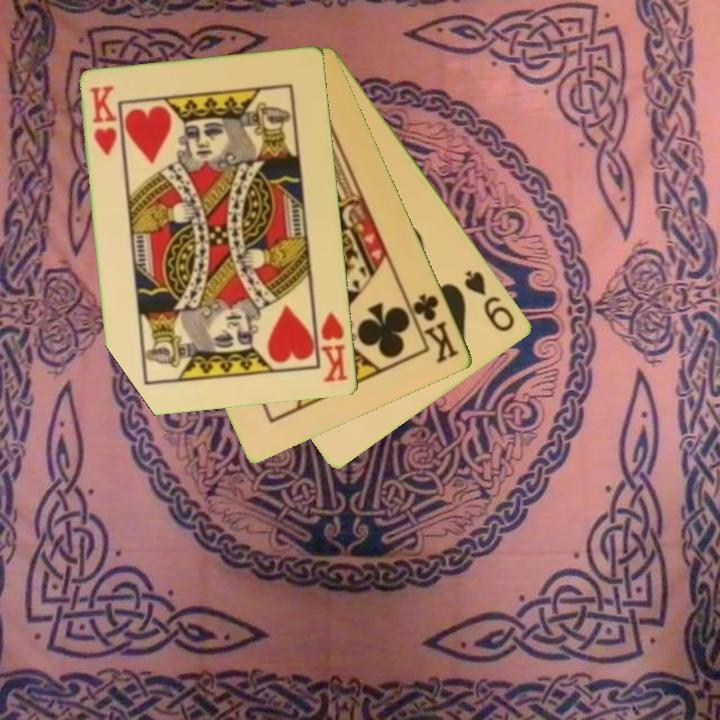9s: (461, 267, 519, 335)
Kc: (403, 290, 463, 367)
Kh: (311, 304, 351, 386), (86, 82, 121, 159)
